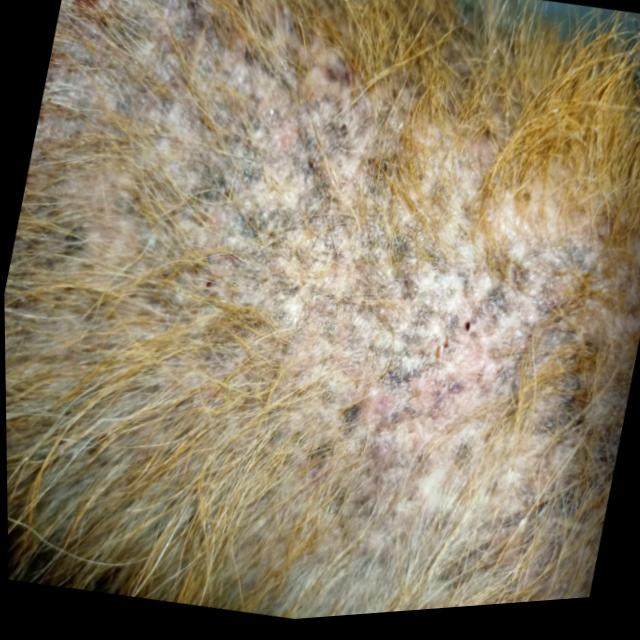demodicosis: (122, 19, 598, 554)
